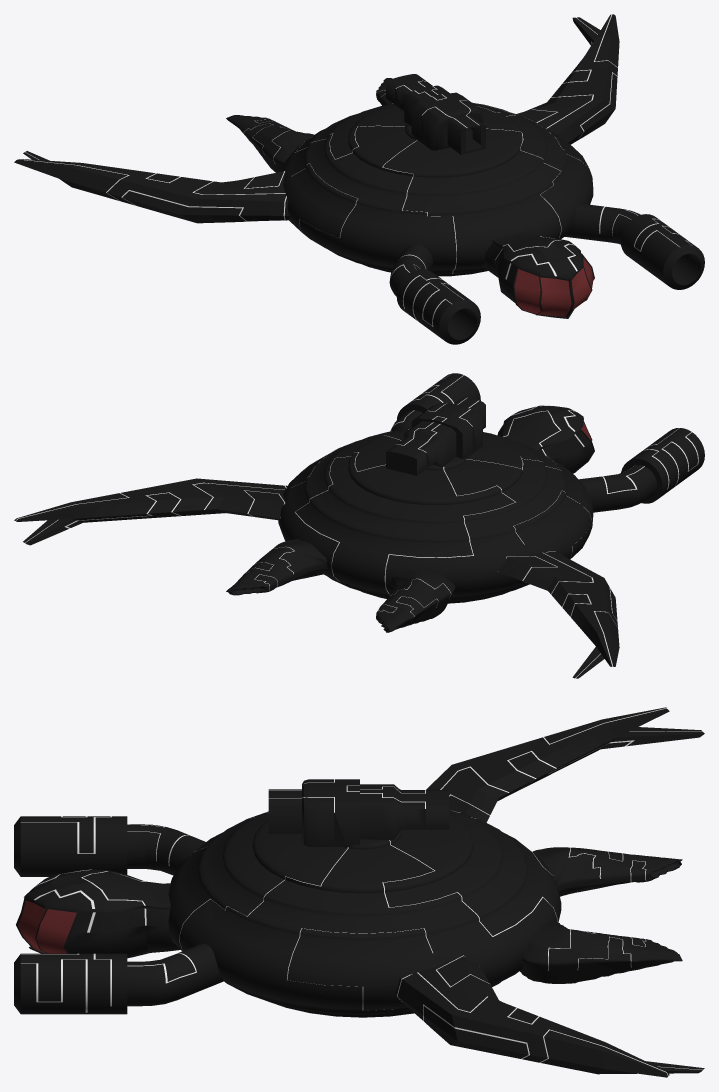
Rendered from SpaceshipBigBoss1.fbx.
3 renders of one model, top to bottom at view 1: azimuth 30°, elevation 25°; view 2: azimuth 150°, elevation 25°; view 3: azimuth 270°, elevation 25°, orthographic. The views are drawn at different scales.
Visible parts, largest first — view 1: Sphere.001, Cube.002, Cylinder, Sphere.002, Sphere, Cube.001; view 2: Sphere.001, Cube.002, Cylinder, Cube.001, Sphere, Sphere.002; view 3: Sphere.001, Cube.002, Cylinder, Sphere.002, Cube.001, Sphere.
Part boxes in pixels (left/top/right/bottom): Sphere.001: left=282, top=102, right=593, bottom=276; Cube.002: left=14, top=14, right=619, bottom=223; Cylinder: left=389, top=203, right=704, bottom=344; Sphere.002: left=482, top=230, right=594, bottom=318; Sphere: left=386, top=74, right=485, bottom=154; Cube.001: left=226, top=78, right=392, bottom=172; Sphere.001: left=278, top=428, right=593, bottom=603; Cube.002: left=14, top=478, right=619, bottom=678; Cylinder: left=390, top=373, right=704, bottom=512; Cube.001: left=226, top=539, right=455, bottom=632; Sphere: left=386, top=397, right=485, bottom=475; Sphere.002: left=497, top=405, right=594, bottom=473; Sphere.001: left=168, top=808, right=561, bottom=1017; Cube.002: left=394, top=707, right=704, bottom=1077; Cylinder: left=14, top=816, right=223, bottom=1014; Sphere.002: left=16, top=869, right=180, bottom=958; Cube.001: left=519, top=847, right=682, bottom=983; Sphere: left=268, top=779, right=449, bottom=846.
Size of the model in its own units: 1155 by 288 by 914.
